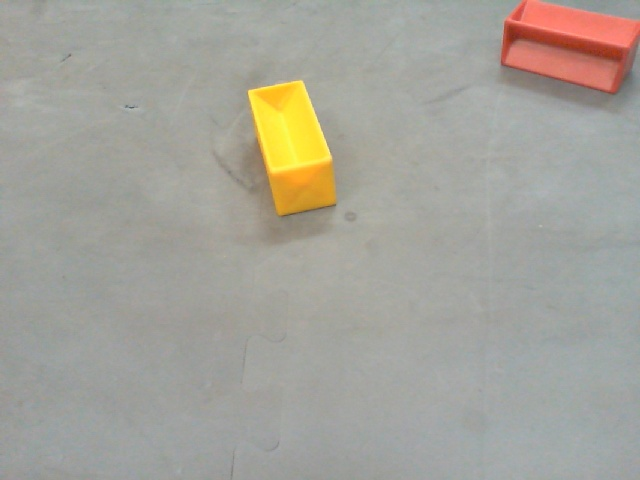RedSample: (499, 3, 640, 96)
YellowSample: (248, 82, 338, 211)
